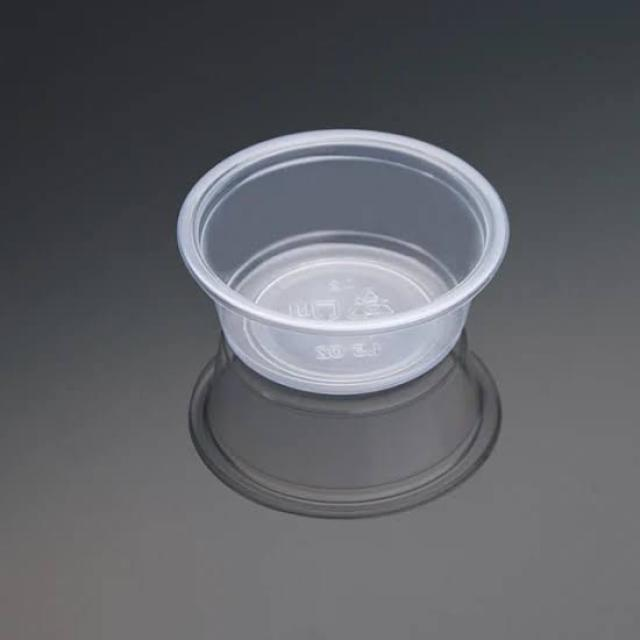plastic cup: (165, 110, 526, 534)
